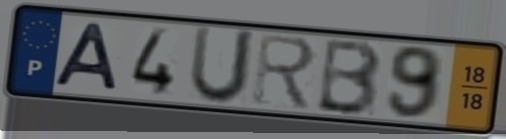4: (129, 26, 179, 98)
9: (383, 44, 449, 122)
A: (52, 21, 122, 94)
B: (313, 37, 385, 119)
R: (250, 31, 319, 114)
U: (185, 23, 259, 108)
